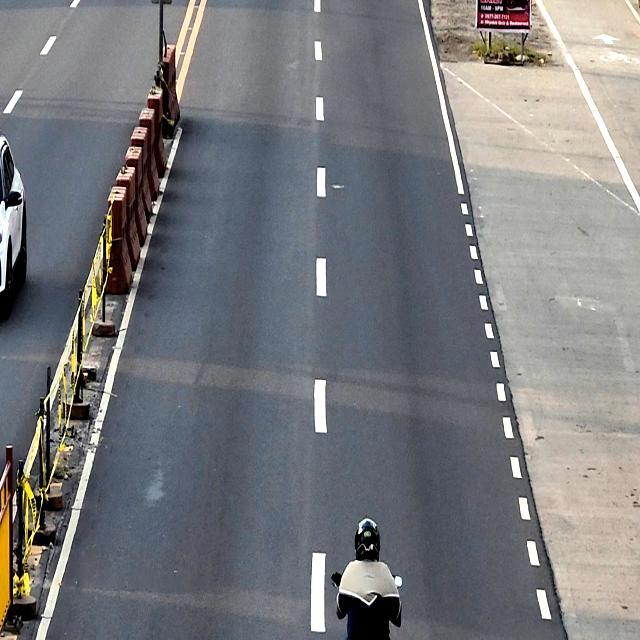Car: (0, 135, 27, 314)
